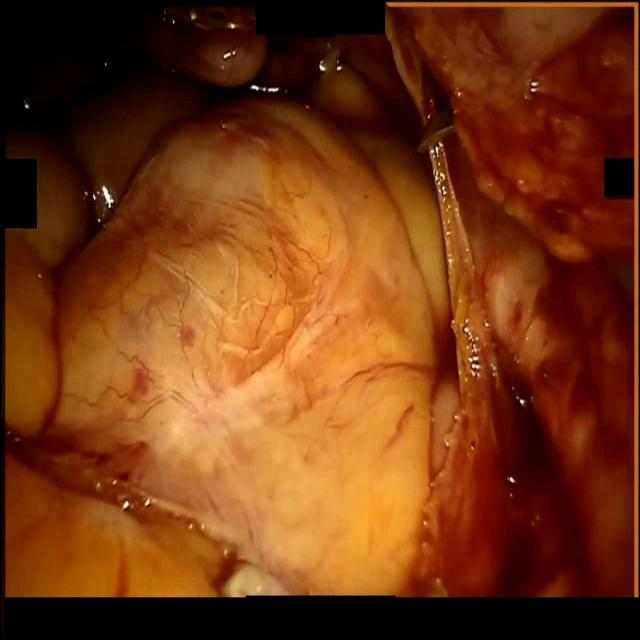surgical-area: (4, 1, 634, 598)
